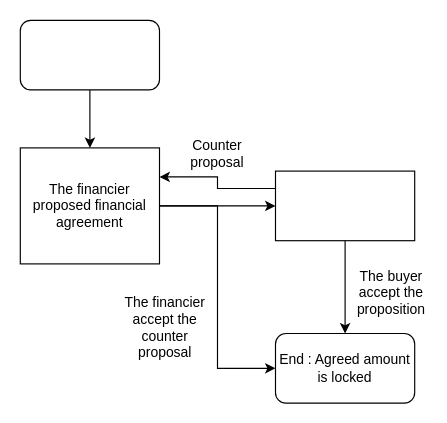
This 447x423 diagram has some shape labels left out. Each missing label, with the centre of its shape:
Start : Collaboration space created: the point at 89,54
The buyer review the proposition: the point at 344,205
